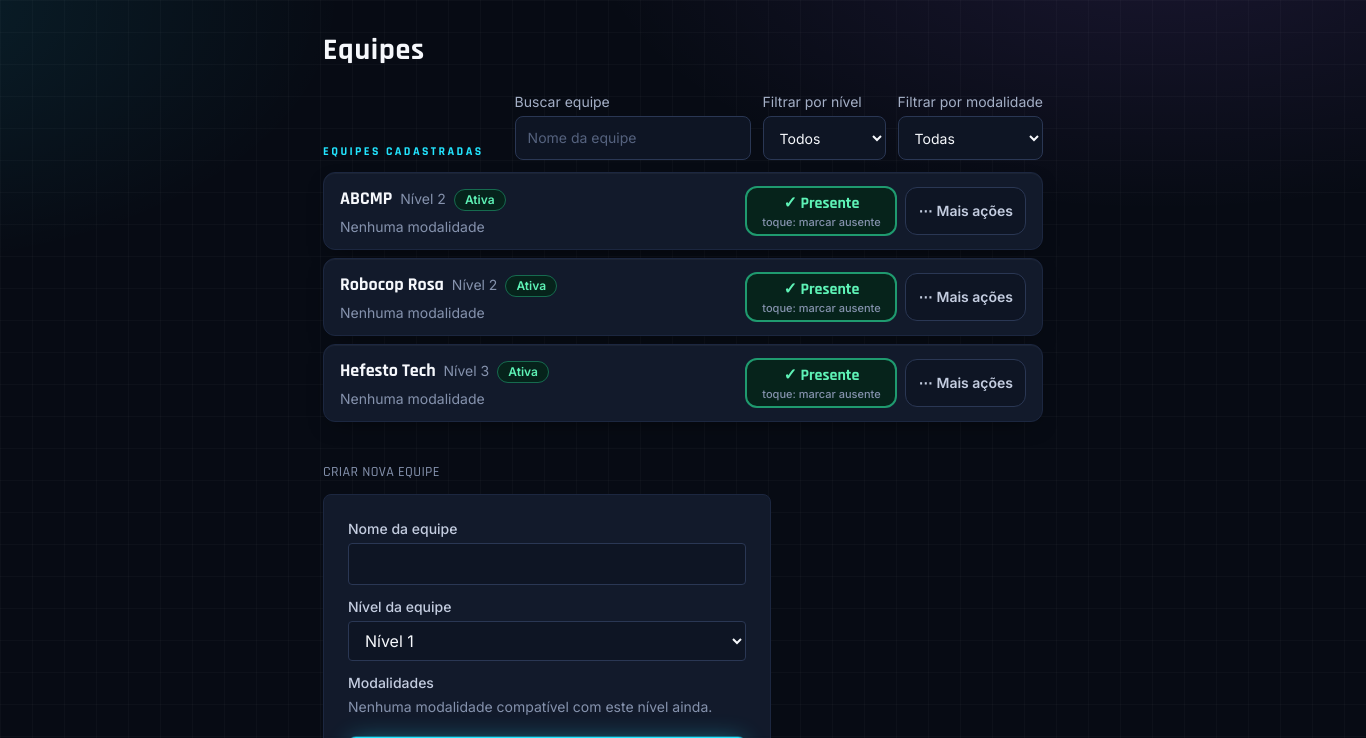
Test case: EquipeListPage › busca equipes pelo nome digitado, sem diferenciar maiusculas
The image size is (1366, 738).
Check: the text "ABCMP" is shown, box [340, 187, 392, 210]
Check: the text "Robocop Rosa" is shown, box [340, 273, 444, 296]
Step 1. Type "hefesto" into the field labelled "Buscar equipe" → (633, 138), box [515, 116, 751, 160]
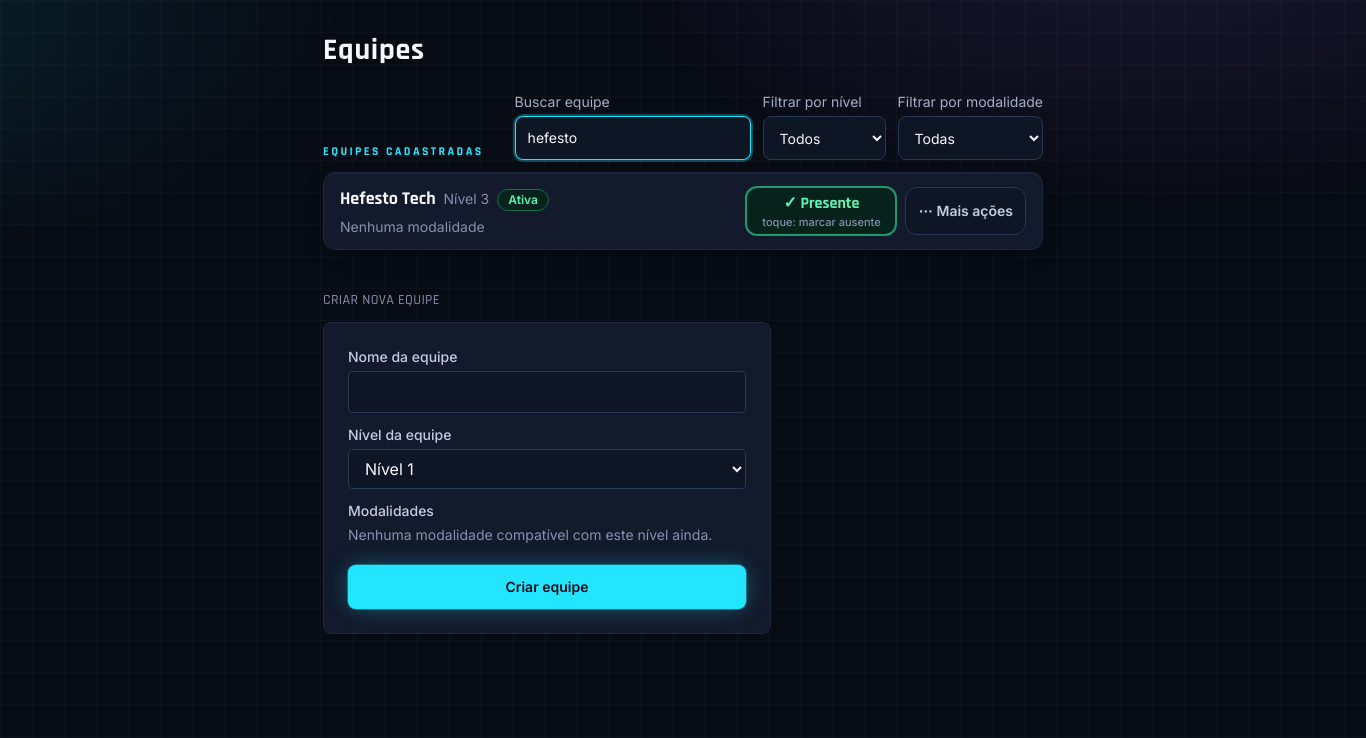
Check: the text "Hefesto Tech" is shown, box [340, 187, 436, 210]
Check: the text "ABCMP" is gone
Check: the text "Robocop Rosa" is gone
